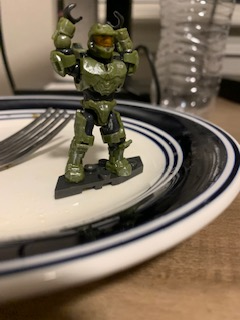chief: (46, 1, 140, 183)
spartan: (48, 2, 142, 185)
up: (48, 3, 140, 100)
